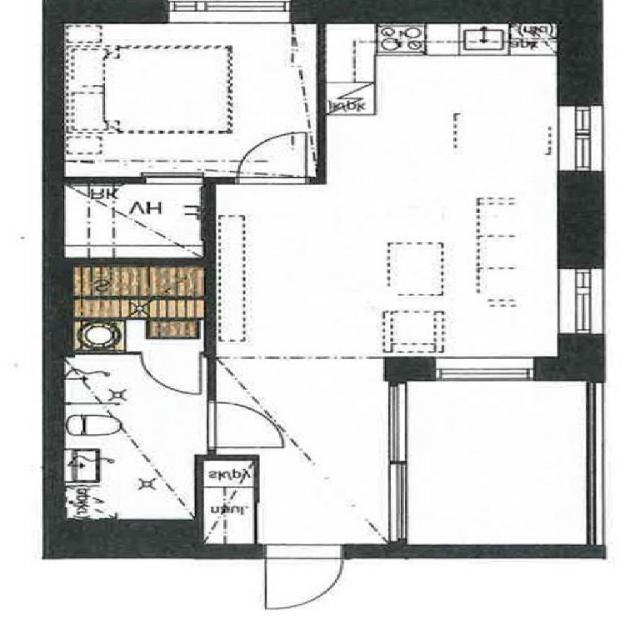door: (265, 544, 343, 609), (238, 132, 307, 184), (207, 402, 283, 447), (142, 351, 201, 395)
